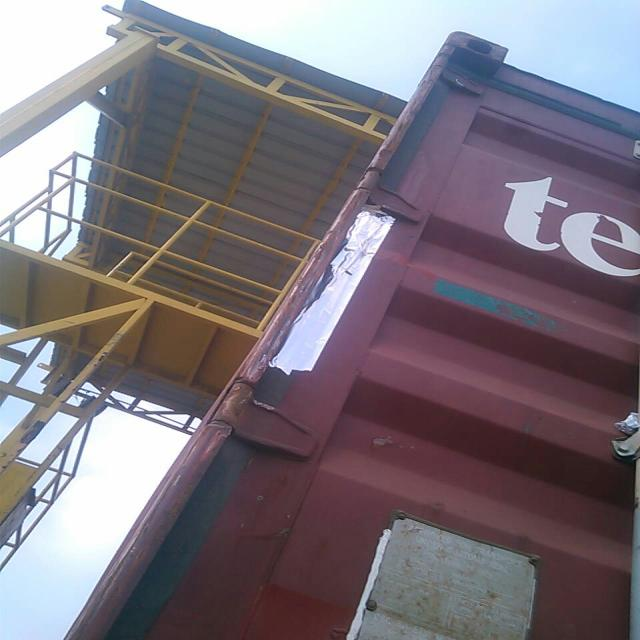rust: (213, 383, 259, 428)
